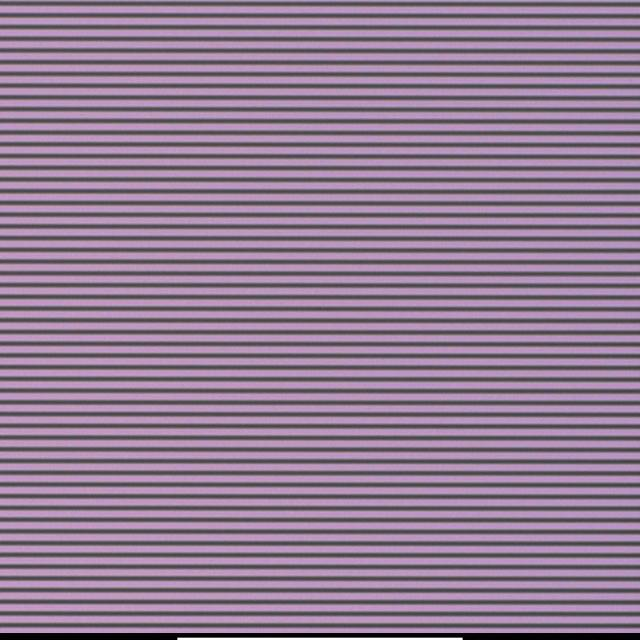03_intrusion: (322, 301, 328, 308)
